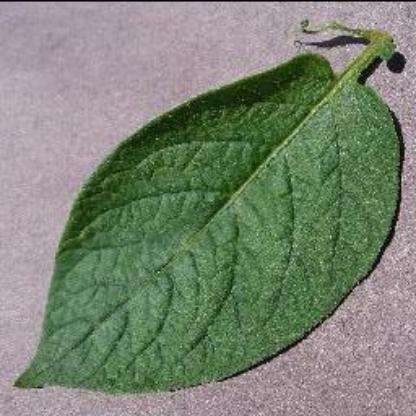Healthy-plant: (15, 26, 402, 393)
